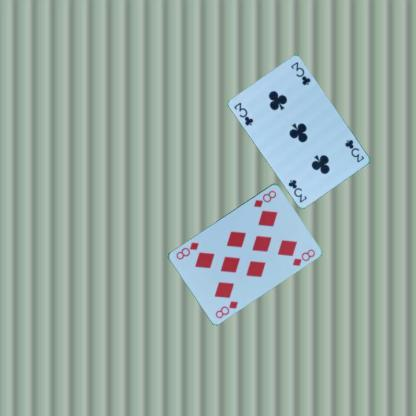3c: (342, 136, 366, 164), (232, 100, 254, 126)
8d: (212, 298, 240, 320), (252, 187, 278, 208)
